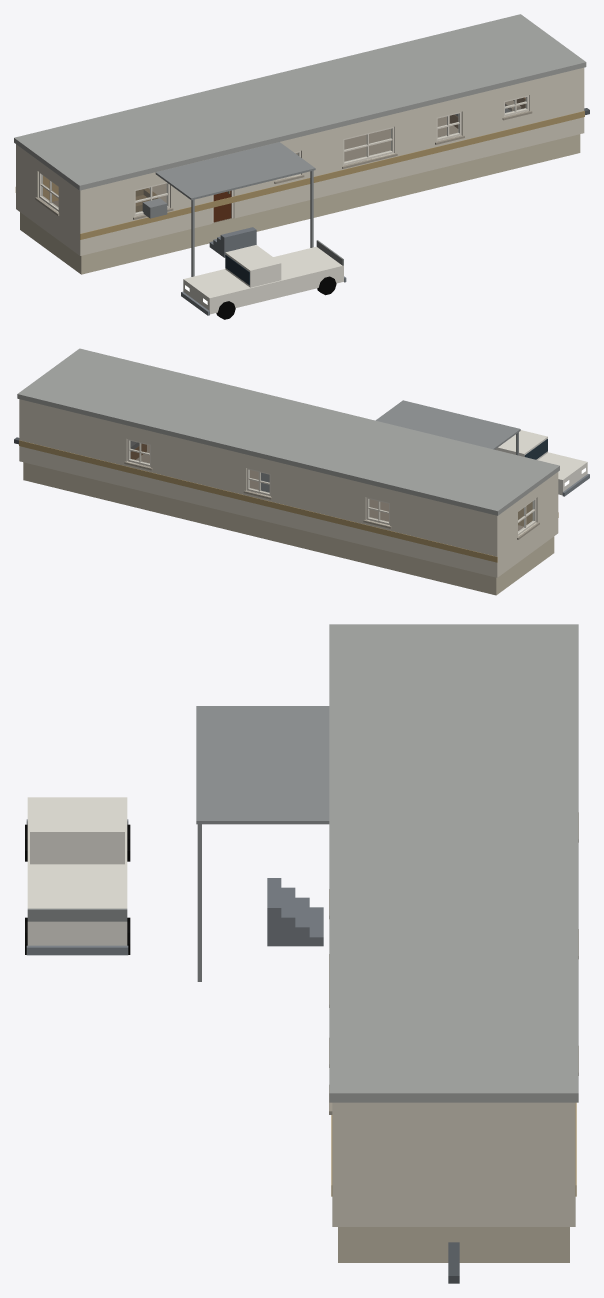
File: trailer.glb
3 views of the same model, one above another, from view 1: azimuth 30°, elevation 25°; view 2: azimuth 150°, elevation 25°; view 3: azimuth 270°, elevation 25° (orthographic). The views are drawn at different scales.
Parts seen in each view (by area): view 1: LOD0, FURN, LEAF0; view 2: LOD0, FURN; view 3: LOD0.
Boxes of the visible parts, bbox=[...] form: LOD0: bbox=[14, 14, 589, 319]; FURN: bbox=[135, 97, 525, 212]; LEAF0: bbox=[213, 191, 231, 222]; LOD0: bbox=[14, 348, 589, 595]; FURN: bbox=[130, 441, 269, 492]; LOD0: bbox=[25, 624, 578, 1283].
Size of what is drawn, in the model's own units: 20.96 by 3.38 by 9.79.
